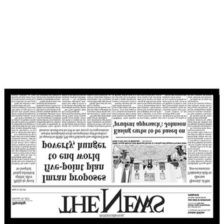news_paper: (7, 90, 215, 219)
